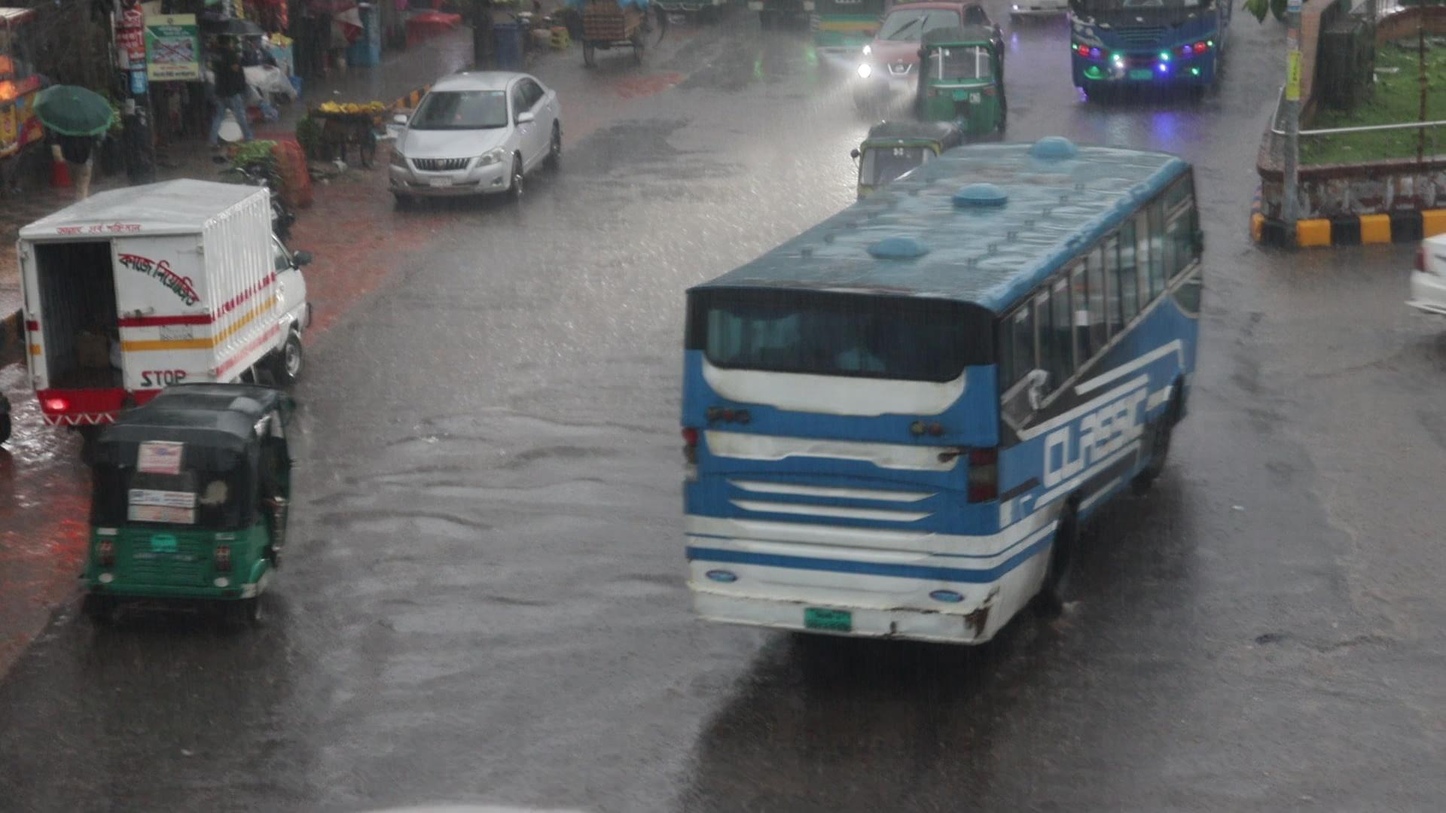Bus: (680, 140, 1209, 569)
